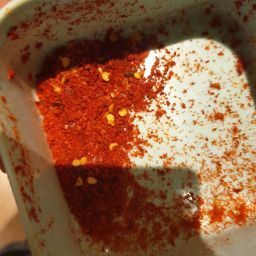Red pepper flakes: (38, 30, 192, 135), (26, 76, 147, 200), (84, 78, 216, 167), (82, 46, 200, 123)
